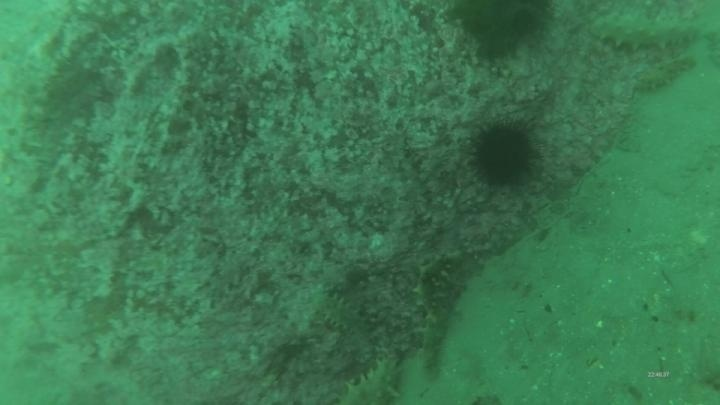echinus: (448, 1, 556, 60), (467, 117, 542, 190)
holothurian: (589, 11, 701, 55), (308, 289, 376, 352), (333, 352, 407, 405), (410, 250, 459, 320), (631, 52, 697, 95), (416, 311, 456, 376)
